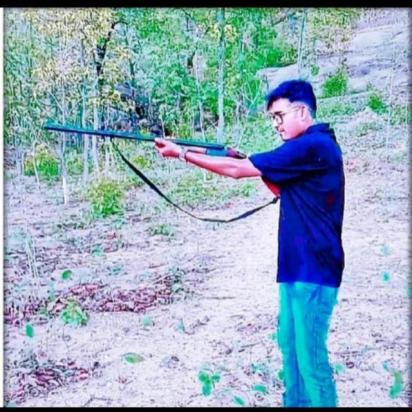Gun: (43, 122, 284, 199)
